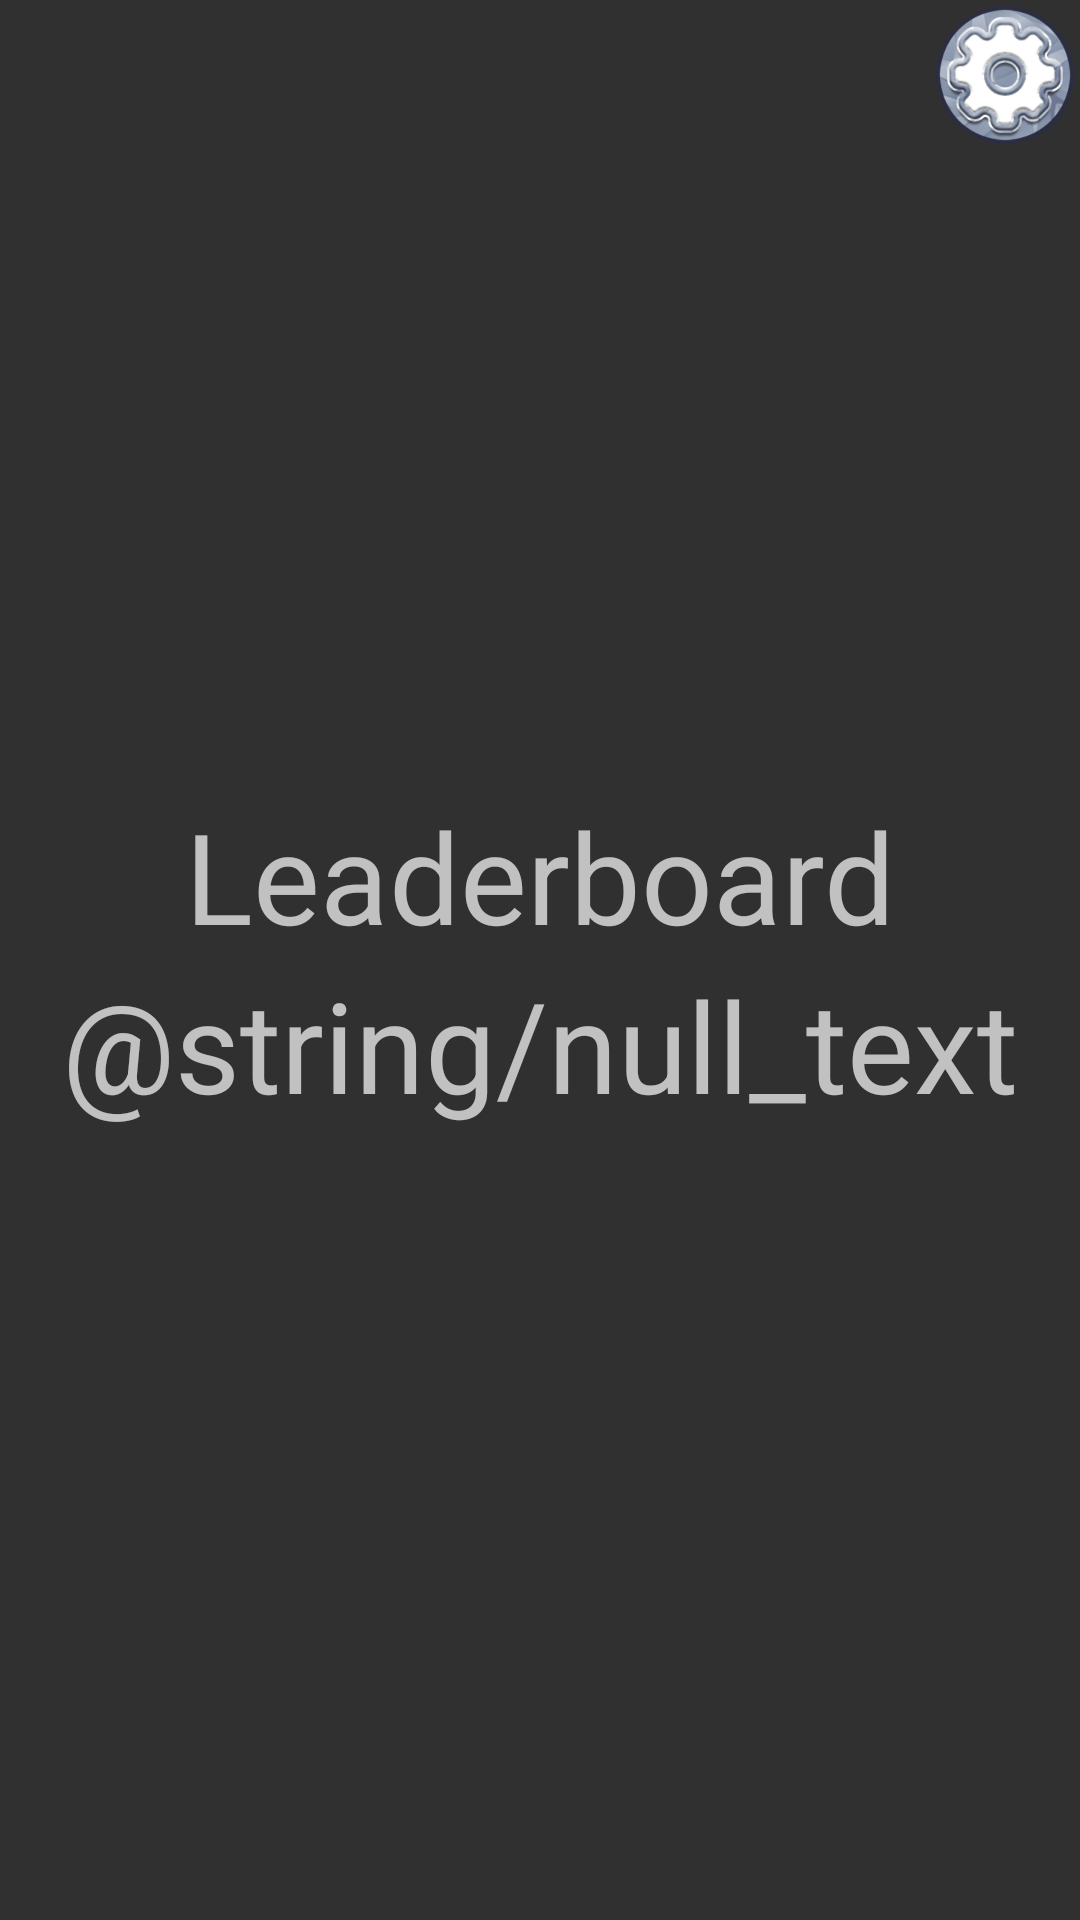

Screen size 1080 × 1920. Icon name, then its box in pixels as Rect(x1, y1, x2, y2):
settingsicon: Rect(939, 9, 1071, 141)
